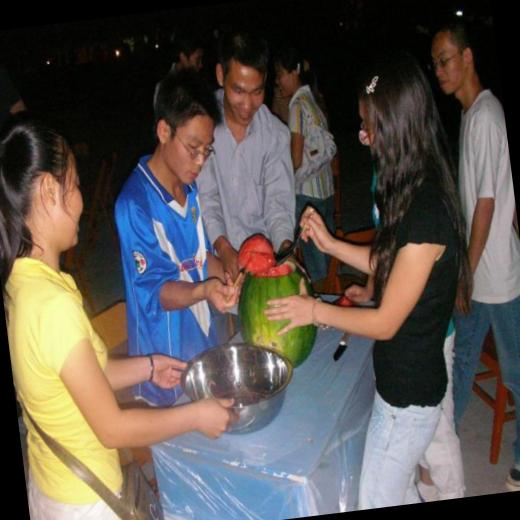Cherry: (234, 228, 320, 373)
